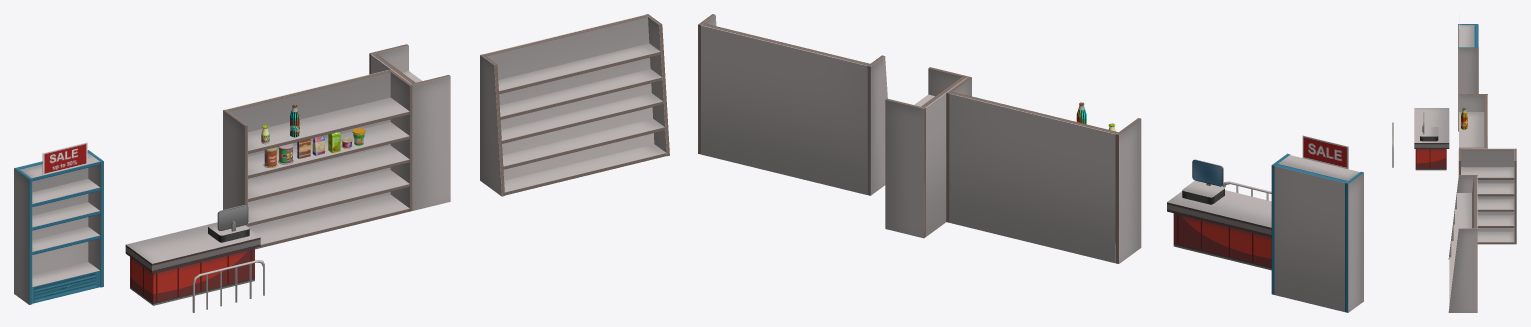
File: grocery store assets.fbx
3 views of the same model, side by side, from view 1: azimuth 30°, elevation 25°; view 2: azimuth 150°, elevation 25°; view 3: azimuth 270°, elevation 25° (orthographic). The views are drawn at different scales.
Visible parts, largest first — view 1: Santd_3, Stand_2, Stand_1, PC_table_1, Stand_4, Desktop_1, SALE_board, Railing_1; view 2: Stand_2, Santd_3, Stand_1, Stand_4, PC_table_1, Desktop_1, SALE_board; view 3: Stand_4, Santd_3, PC_table_1, Stand_1, Stand_2, Desktop_1, Food_product_33, Food_product_34.
Part boxes in pixels (bbox=[...]): Santd_3: bbox=[480, 14, 669, 196]; Stand_2: bbox=[223, 69, 412, 249]; Stand_1: bbox=[14, 150, 103, 304]; PC_table_1: bbox=[125, 222, 260, 305]; Stand_4: bbox=[369, 44, 450, 210]; Desktop_1: bbox=[208, 204, 249, 242]; SALE_board: bbox=[42, 142, 87, 175]; Railing_1: bbox=[192, 260, 264, 312]; Stand_2: bbox=[946, 76, 1141, 263]; Santd_3: bbox=[698, 14, 887, 195]; Stand_1: bbox=[1271, 153, 1363, 312]; Stand_4: bbox=[885, 67, 968, 238]; PC_table_1: bbox=[1167, 190, 1271, 270]; Desktop_1: bbox=[1182, 159, 1224, 204]; SALE_board: bbox=[1302, 135, 1348, 169]; Stand_4: bbox=[1458, 148, 1516, 244]; Santd_3: bbox=[1448, 175, 1477, 312]; PC_table_1: bbox=[1414, 108, 1449, 170]; Stand_1: bbox=[1458, 24, 1478, 131]; Stand_2: bbox=[1459, 94, 1487, 148]; Desktop_1: bbox=[1420, 112, 1438, 141]; Food_product_33: bbox=[1461, 108, 1467, 129]; Food_product_34: bbox=[1461, 108, 1466, 129].
Bounding box in the file's own units: 1079 × 241 × 277.
1 material, 1 textured.
